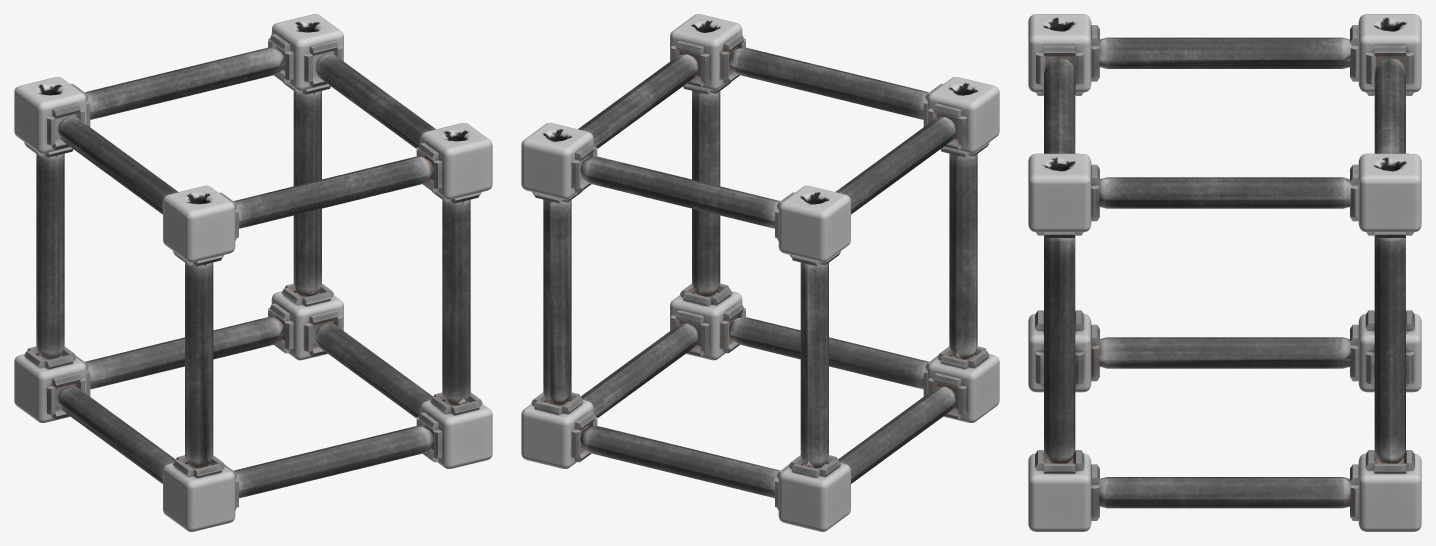
File: SM_PartFrameCube.glb
3 views of the same model, side by side, from view 1: azimuth 30°, elevation 25°; view 2: azimuth 150°, elevation 25°; view 3: azimuth 270°, elevation 25° (orthographic). The views are drawn at different scales.
Visible parts, largest first — view 1: SM_PartFrameCube; view 2: SM_PartFrameCube; view 3: SM_PartFrameCube.
Boxes of the visible parts, x1,y1,x2,y2 form: SM_PartFrameCube: [14, 14, 492, 531]; SM_PartFrameCube: [521, 14, 999, 531]; SM_PartFrameCube: [1028, 14, 1421, 531].
Bounding box in the file's own units: 0.5 × 0.5 × 0.5.
4 materials, 4 textured.
